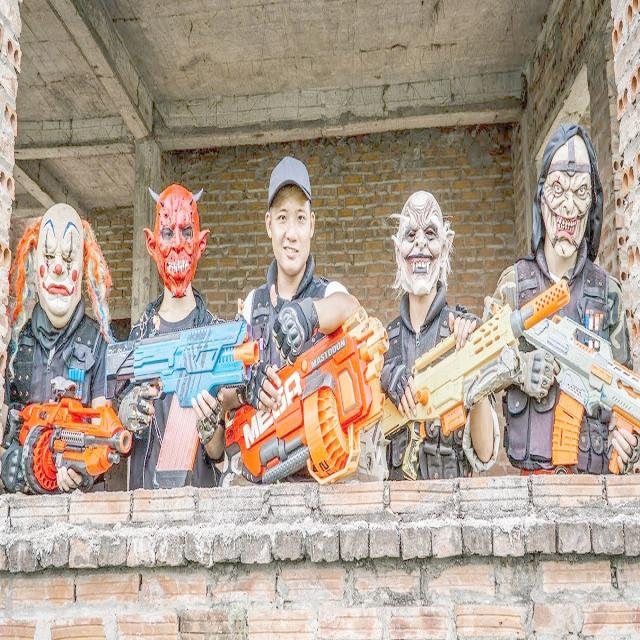Nerf gun: (374, 270, 572, 498), (221, 312, 391, 493), (476, 296, 640, 477), (101, 318, 264, 498), (7, 391, 133, 496)
